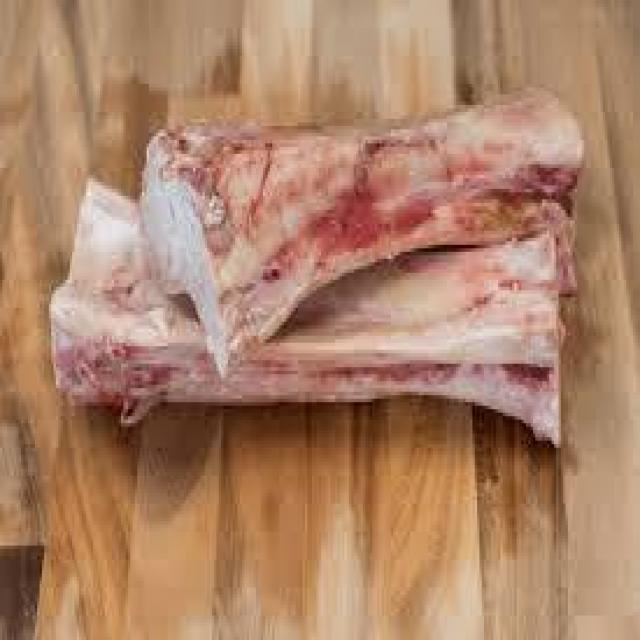beef: (48, 63, 604, 446)
